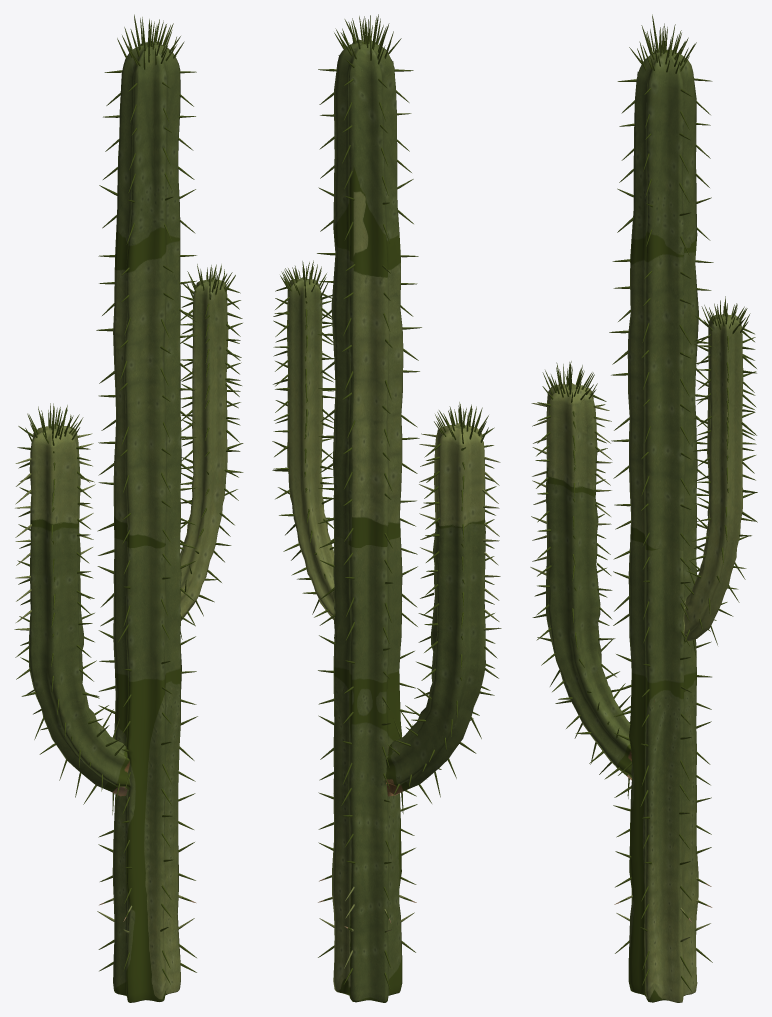
The model's file is secondcactus.obj.
3 views of the same model, side by side, from view 1: azimuth 30°, elevation 25°; view 2: azimuth 150°, elevation 25°; view 3: azimuth 330°, elevation 25° (orthographic).
Parts seen in each view (by area): view 1: node_id47; view 2: node_id47; view 3: node_id47.
Boxes of the visible parts, left/top/right/bottom form: node_id47: left=14, top=14, right=243, bottom=1002; node_id47: left=272, top=14, right=501, bottom=1002; node_id47: left=530, top=14, right=757, bottom=1002.
Size of the model in its own units: 0.2698 by 1.1 by 0.0968.
1 material, 1 textured.
